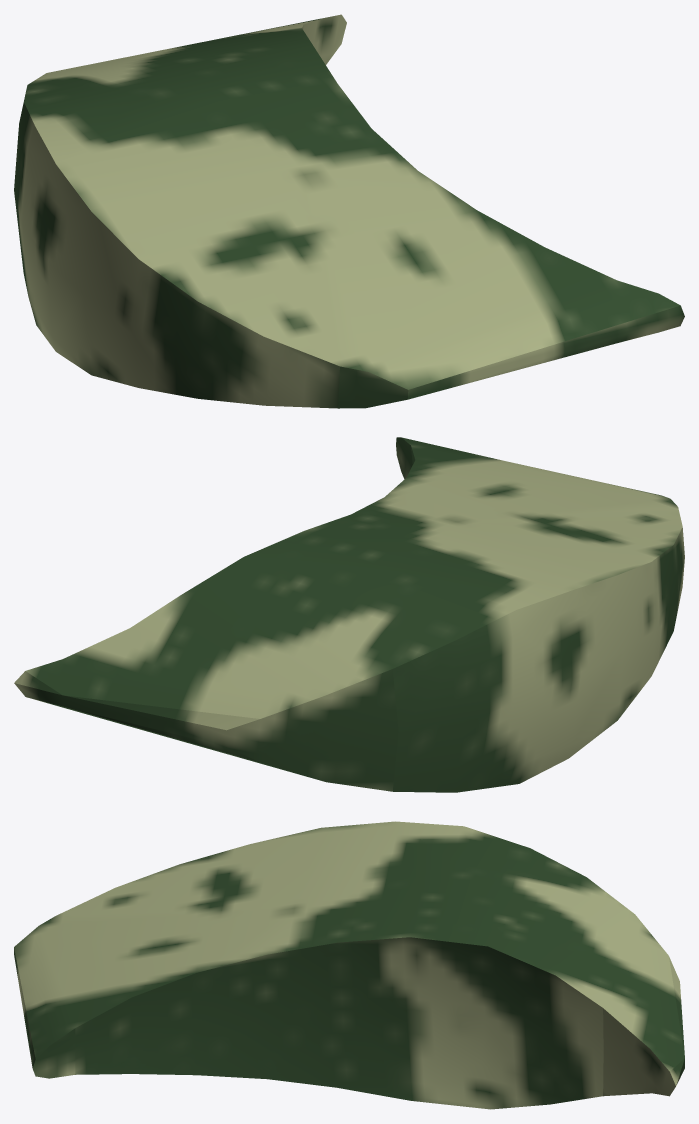
File: link_body_35_composite.obj
The picture shows the model from 3 angles, top to bottom: view 1: azimuth 30°, elevation 25°; view 2: azimuth 150°, elevation 25°; view 3: azimuth 270°, elevation 25°; orthographic projection. The views are drawn at different scales.
Parts seen in each view (by area): view 1: link_body_35; view 2: link_body_35; view 3: link_body_35.
Boxes of the visible parts, x1=… form: link_body_35: x1=14, y1=14, x2=684, y2=408; link_body_35: x1=14, y1=437, x2=684, y2=792; link_body_35: x1=14, y1=821, x2=684, y2=1109.
Bounding box in the file's own units: 6.41 × 2.65 × 9.37.
Materials: 1 (1 with a texture image).
